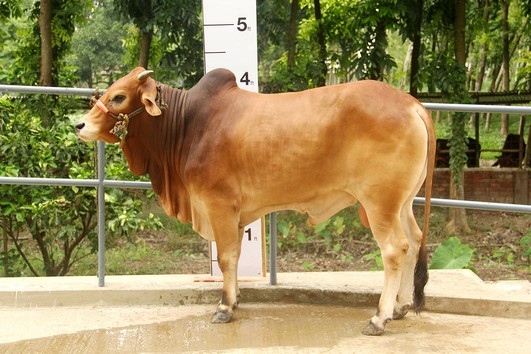cow: (63, 61, 444, 338)
